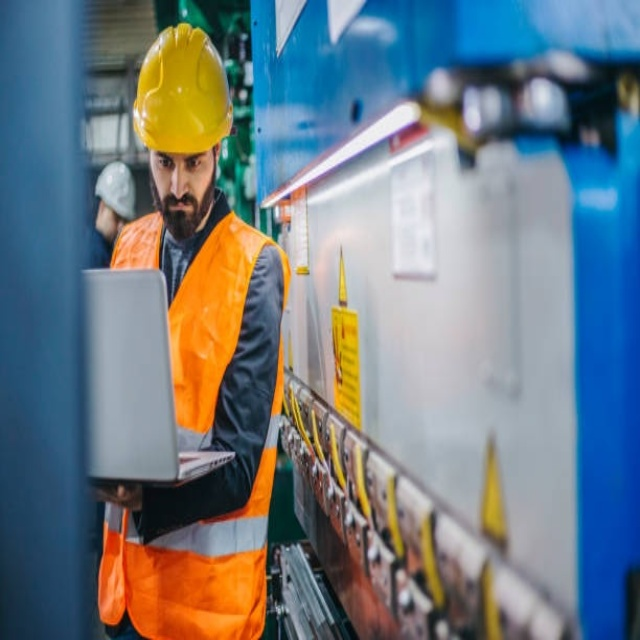Sin_gafas: (152, 151, 208, 180)
Sin_mascara: (160, 191, 196, 221)
